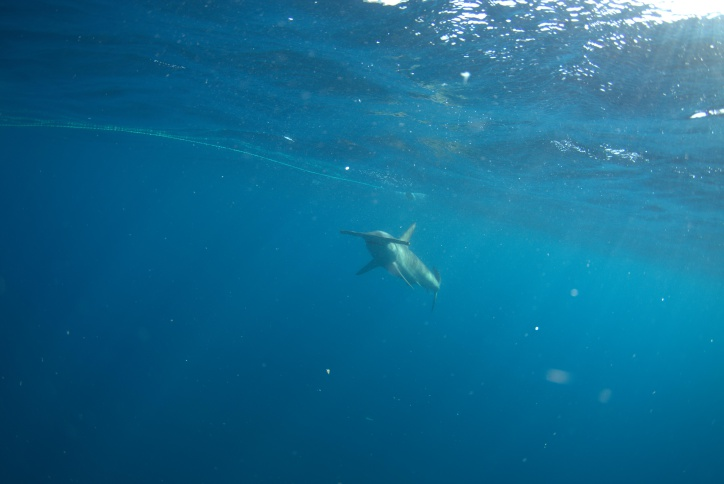Hammer: (208, 125, 517, 238), (340, 222, 480, 329)
